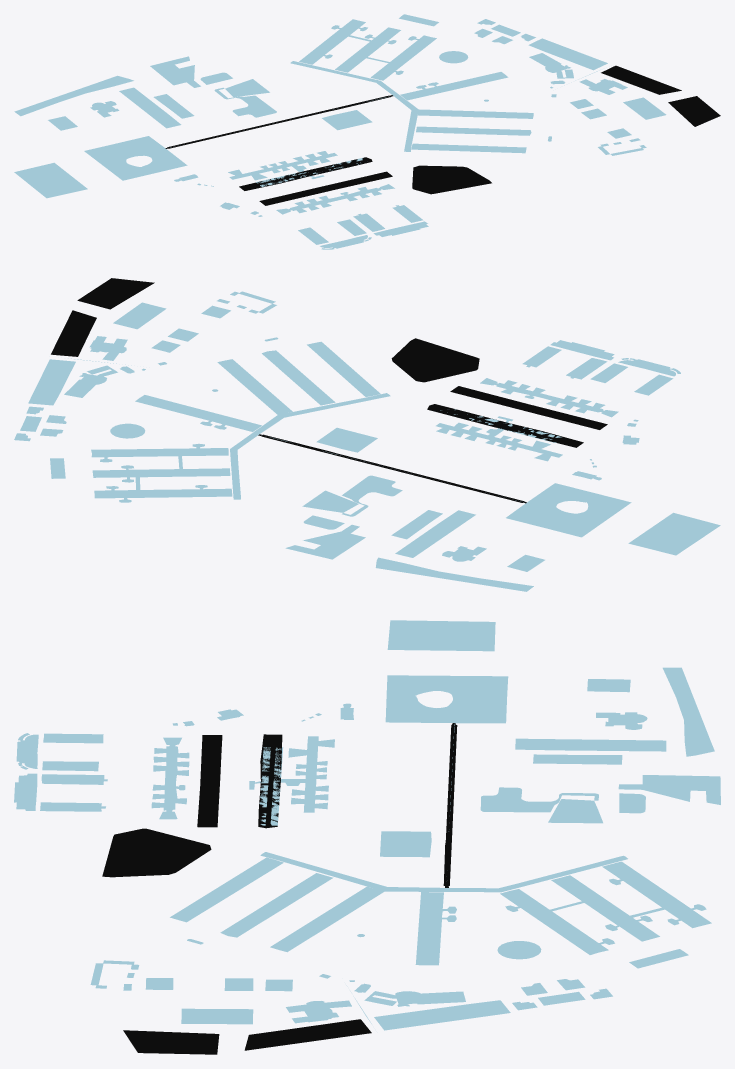
File: map1.glb
3 views of the same model, one above another, from view 1: azimuth 30°, elevation 25°; view 2: azimuth 150°, elevation 25°; view 3: azimuth 270°, elevation 25° (orthographic). The views are drawn at different scales.
Parts seen in each view (by area): view 1: Curve.006, Curve.008, Curve.012, Curve.005, Curve.010, Curve.011, Curve.009, Curve.087, Curve.007, Curve.050, Curve.013, Curve.004 (+17 smaller); view 2: Curve.006, Curve.008, Curve.012, Curve.005, Curve.010, Curve.087, Curve.011, Curve.009, Curve.050, Curve.007, Curve.013, Curve.002 (+19 smaller); view 3: Curve.006, Curve.008, Curve.012, Curve.005, Curve.087, Curve.009, Curve.007, Curve.050, Curve.010, Curve.011, Curve.004, Curve.002 (+19 smaller).
Boxes of the visible parts, bbox=[...] form: Curve.006: bbox=[84, 136, 187, 180]; Curve.008: bbox=[412, 165, 491, 194]; Curve.012: bbox=[14, 162, 87, 198]; Curve.005: bbox=[353, 205, 428, 236]; Curve.010: bbox=[259, 171, 392, 205]; Curve.011: bbox=[14, 75, 133, 116]; Curve.009: bbox=[528, 38, 607, 70]; Curve.087: bbox=[668, 96, 720, 126]; Curve.007: bbox=[601, 65, 681, 94]; Curve.050: bbox=[290, 61, 418, 151]; Curve.013: bbox=[239, 157, 372, 190]; Curve.004: bbox=[298, 219, 368, 249]; Curve.006: bbox=[506, 483, 631, 537]; Curve.008: bbox=[391, 338, 479, 382]; Curve.012: bbox=[628, 512, 720, 555]; Curve.005: bbox=[522, 340, 614, 379]; Curve.010: bbox=[450, 386, 607, 429]; Curve.087: bbox=[77, 278, 154, 309]; Curve.011: bbox=[375, 557, 533, 591]; Curve.009: bbox=[28, 359, 75, 405]; Curve.050: bbox=[230, 393, 390, 499]; Curve.007: bbox=[51, 310, 96, 356]; Curve.013: bbox=[427, 404, 583, 447]; Curve.002: bbox=[285, 524, 365, 559]; Curve.006: bbox=[385, 675, 508, 723]; Curve.008: bbox=[102, 828, 211, 877]; Curve.012: bbox=[387, 620, 495, 651]; Curve.005: bbox=[14, 773, 107, 811]; Curve.087: bbox=[123, 1030, 219, 1054]; Curve.009: bbox=[374, 1000, 510, 1030]; Curve.007: bbox=[244, 1019, 371, 1050]; Curve.050: bbox=[260, 852, 627, 892]; Curve.010: bbox=[197, 735, 222, 827]; Curve.011: bbox=[662, 667, 714, 756]; Curve.004: bbox=[16, 733, 103, 771]; Curve.002: bbox=[618, 775, 720, 804].
Size of the model in its own units: 0.1694 by 0 by 0.1165.
